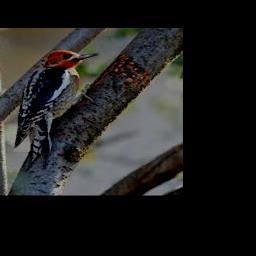Woodpecker: (14, 50, 99, 171)
